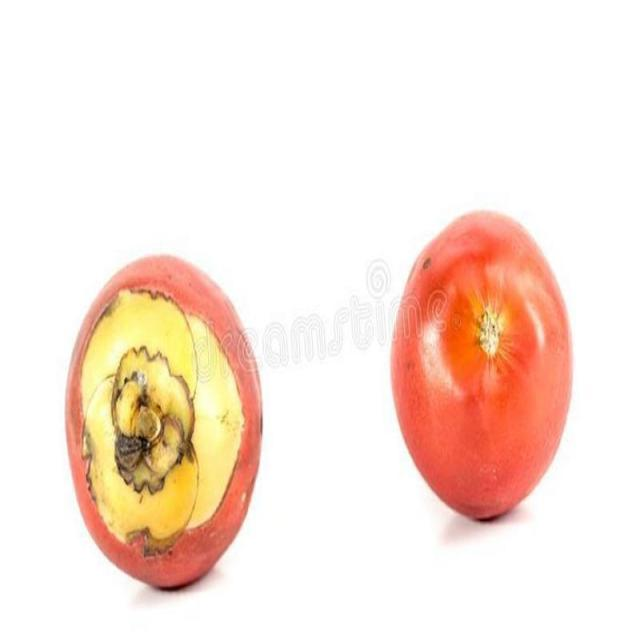good: (62, 253, 265, 593), (388, 213, 575, 525)
